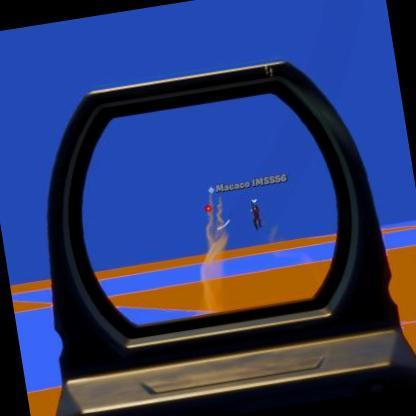person: (248, 203, 264, 230)
